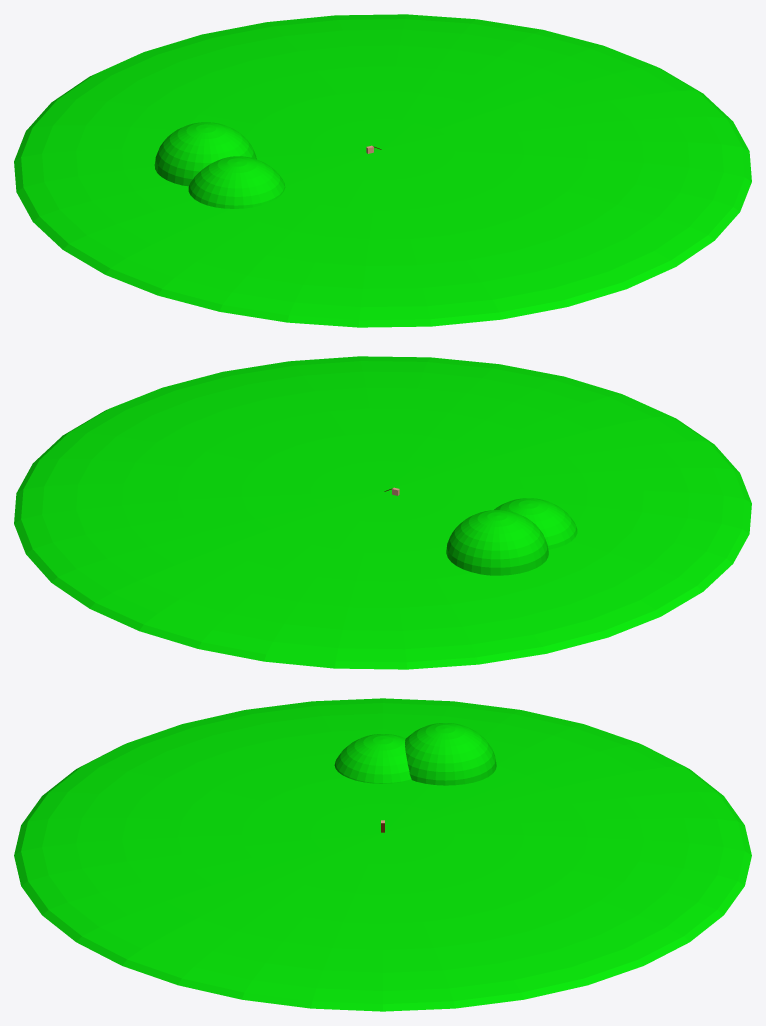
The model's file is dimensions test 1.fbx.
3 views of the same model, one above another, from view 1: azimuth 30°, elevation 25°; view 2: azimuth 150°, elevation 25°; view 3: azimuth 270°, elevation 25° (orthographic).
Visible parts, largest first — view 1: Sphere, Sphere.001, Sphere.002; view 2: Sphere, Sphere.002, Sphere.001; view 3: Sphere, Sphere.002, Sphere.001.
Boxes of the visible parts, <box> form: Sphere: <box>14,14,751,327</box>; Sphere.001: <box>188,156,285,208</box>; Sphere.002: <box>154,122,256,186</box>; Sphere: <box>14,356,751,669</box>; Sphere.002: <box>446,510,548,575</box>; Sphere.001: <box>494,498,577,549</box>; Sphere: <box>14,698,751,1011</box>; Sphere.002: <box>405,723,496,785</box>; Sphere.001: <box>334,734,411,783</box>.
Size of the model in its own units: 150000 by 12625 by 150000.
